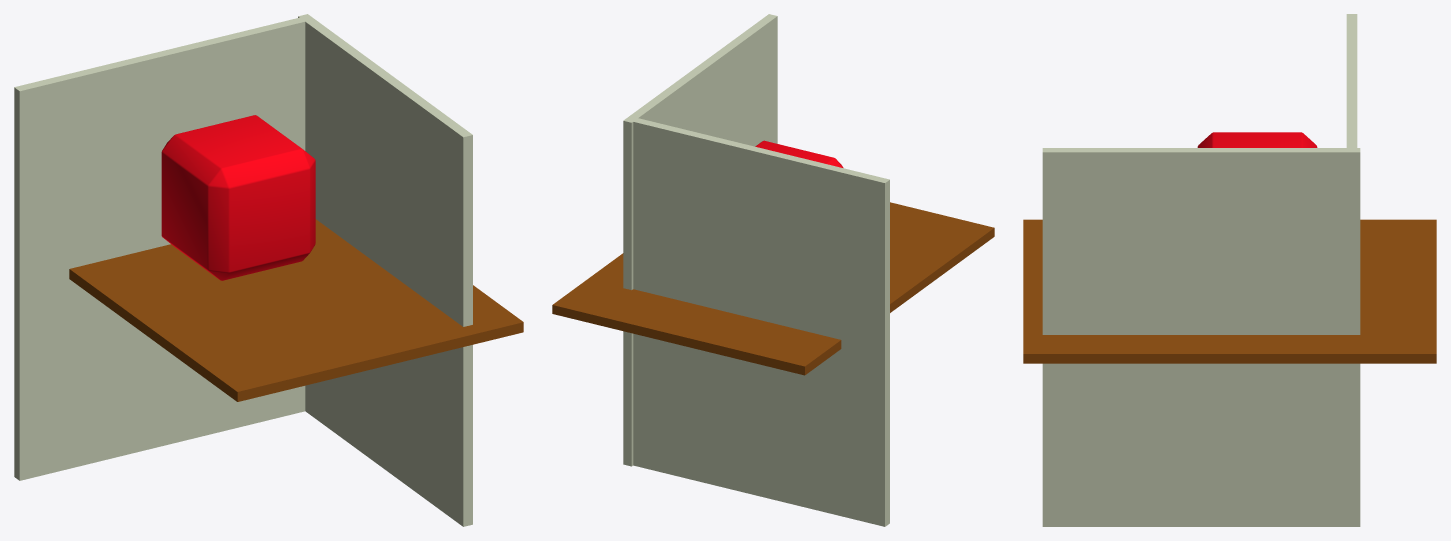
File: World.glb
3 views of the same model, side by side, from view 1: azimuth 30°, elevation 25°; view 2: azimuth 150°, elevation 25°; view 3: azimuth 270°, elevation 25° (orthographic). The views are drawn at different scales.
Parts seen in each view (by area): view 1: Wall.001, Wall, Ground, Box; view 2: Wall.001, Ground, Wall, Box; view 3: Wall, Ground, Box, Wall.001.
Part boxes in pixels (x1=…): Wall.001: x1=14, y1=17, x2=305, y2=480; Wall: x1=298, y1=14, x2=472, y2=526; Ground: x1=69, y1=219, x2=523, y2=401; Box: x1=161, y1=115, x2=315, y2=280; Wall.001: x1=633, y1=118, x2=889, y2=526; Ground: x1=552, y1=202, x2=994, y2=375; Wall: x1=623, y1=14, x2=777, y2=466; Box: x1=755, y1=140, x2=843, y2=167; Wall: x1=1042, y1=148, x2=1360, y2=526; Ground: x1=1023, y1=219, x2=1436, y2=363; Box: x1=1197, y1=132, x2=1317, y2=147; Wall.001: x1=1346, y1=14, x2=1357, y2=148.
Size of the model in its own units: 13.98 by 15.49 by 15.49.
